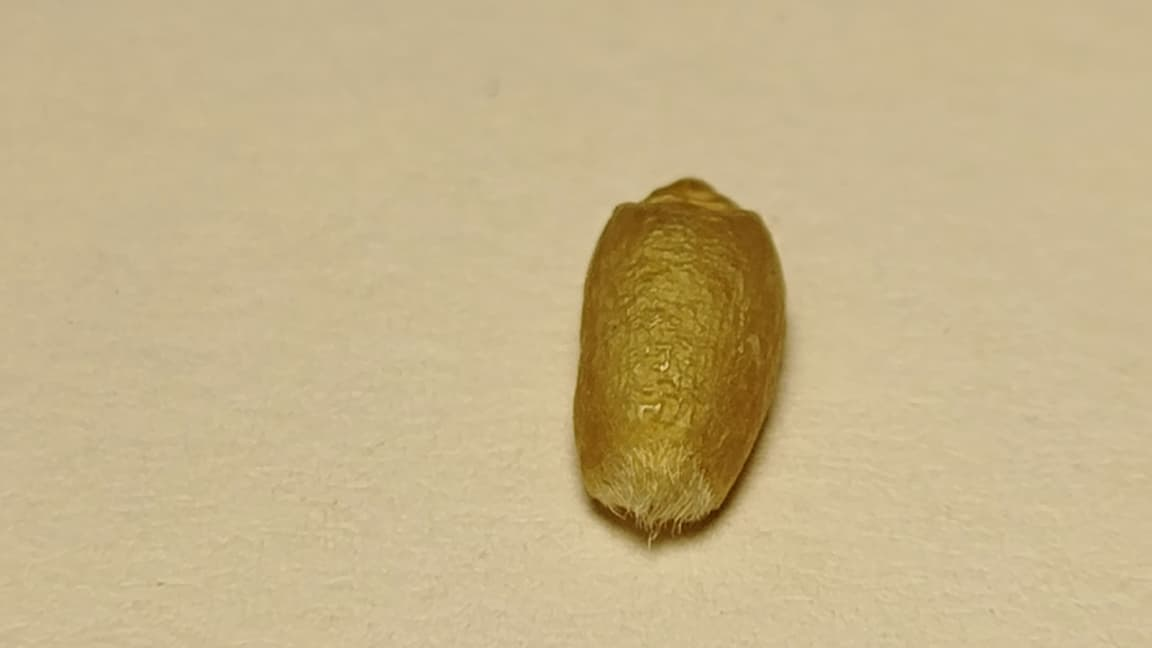healthy: (574, 179, 785, 524)
